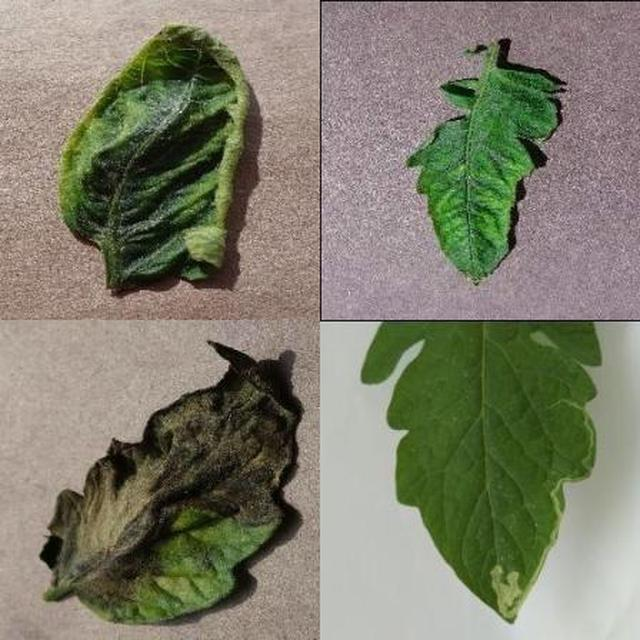Yellow Leaf Curl Virus: (221, 218, 640, 640)
